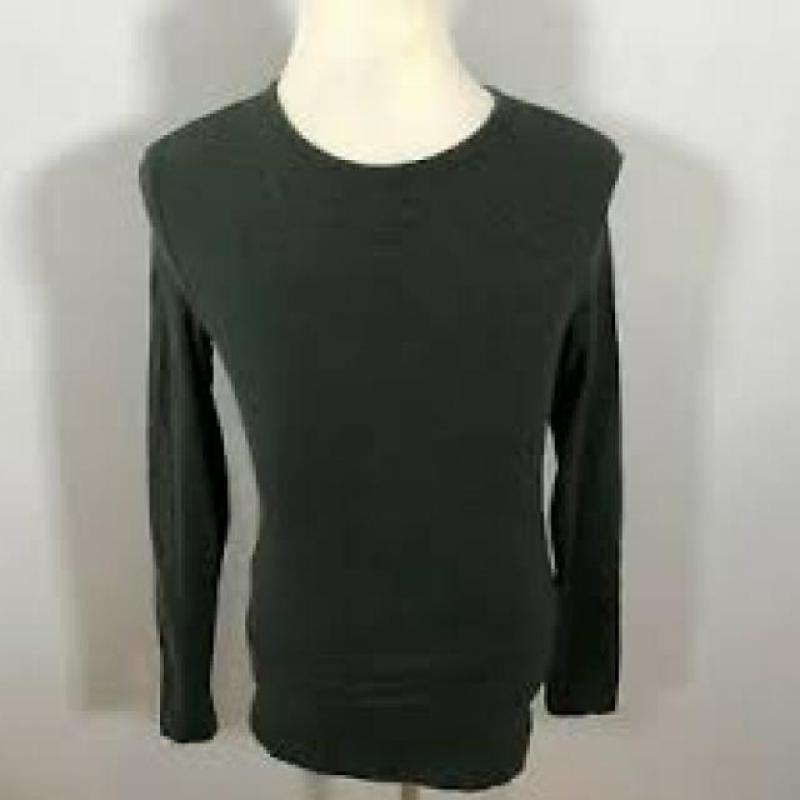long sleeve shirt: (136, 75, 633, 795)
